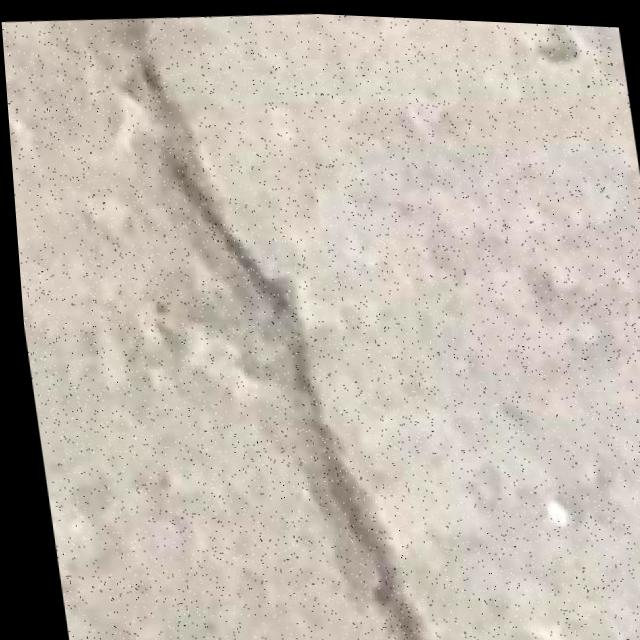Crack: (112, 4, 426, 640)
